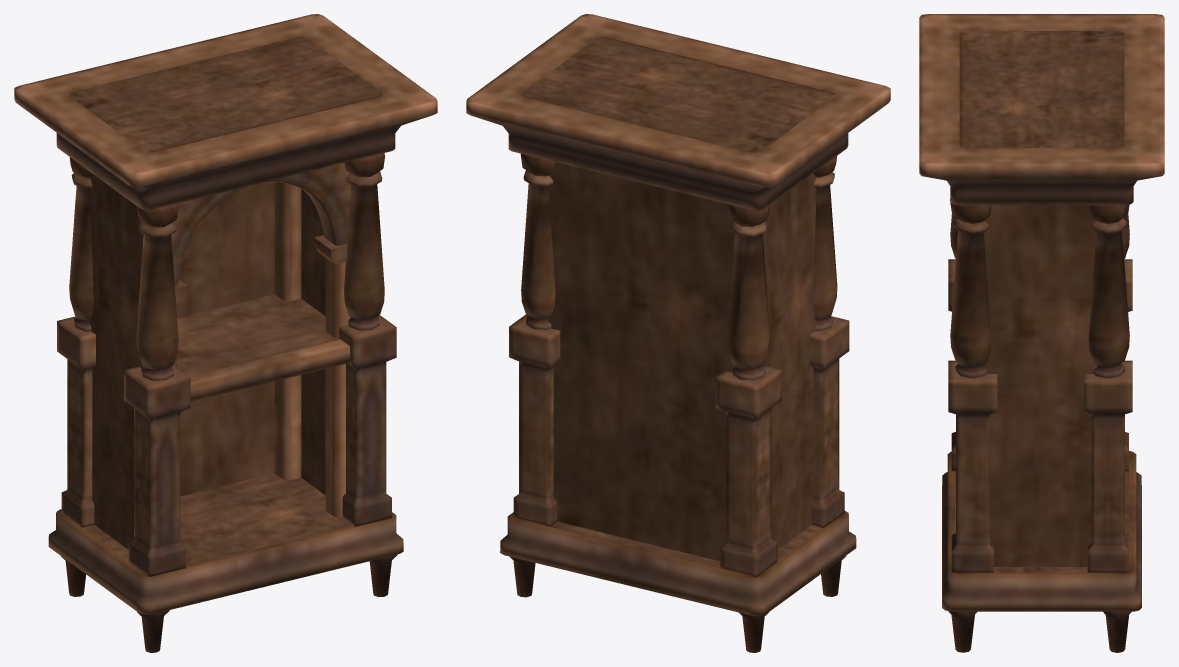
Rendered from t2_cabinet_small_ornamented_wooden.glb.
The picture shows the model from 3 angles, left to right: view 1: azimuth 30°, elevation 25°; view 2: azimuth 150°, elevation 25°; view 3: azimuth 270°, elevation 25°; orthographic projection.
Parts seen in each view (by area): view 1: castleprops_furniture_shelf_small_01; view 2: castleprops_furniture_shelf_small_01; view 3: castleprops_furniture_shelf_small_01.
Boxes of the visible parts, <box> form: castleprops_furniture_shelf_small_01: <box>14,14,437,652</box>; castleprops_furniture_shelf_small_01: <box>466,14,890,652</box>; castleprops_furniture_shelf_small_01: <box>919,14,1164,652</box>.
Size of the model in its own units: 1.18 by 1.82 by 0.807.
1 material, 1 textured.
